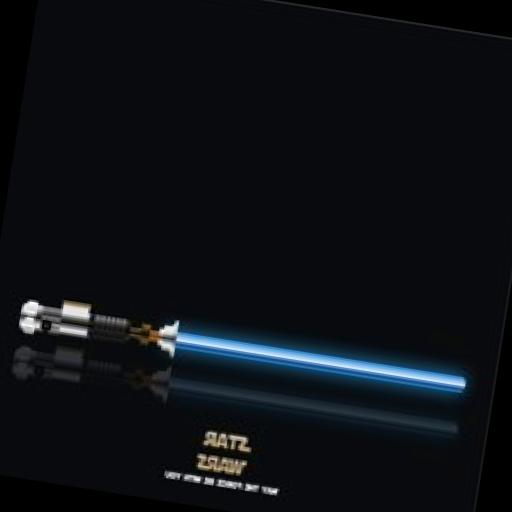lightsaber: (8, 290, 470, 408)
